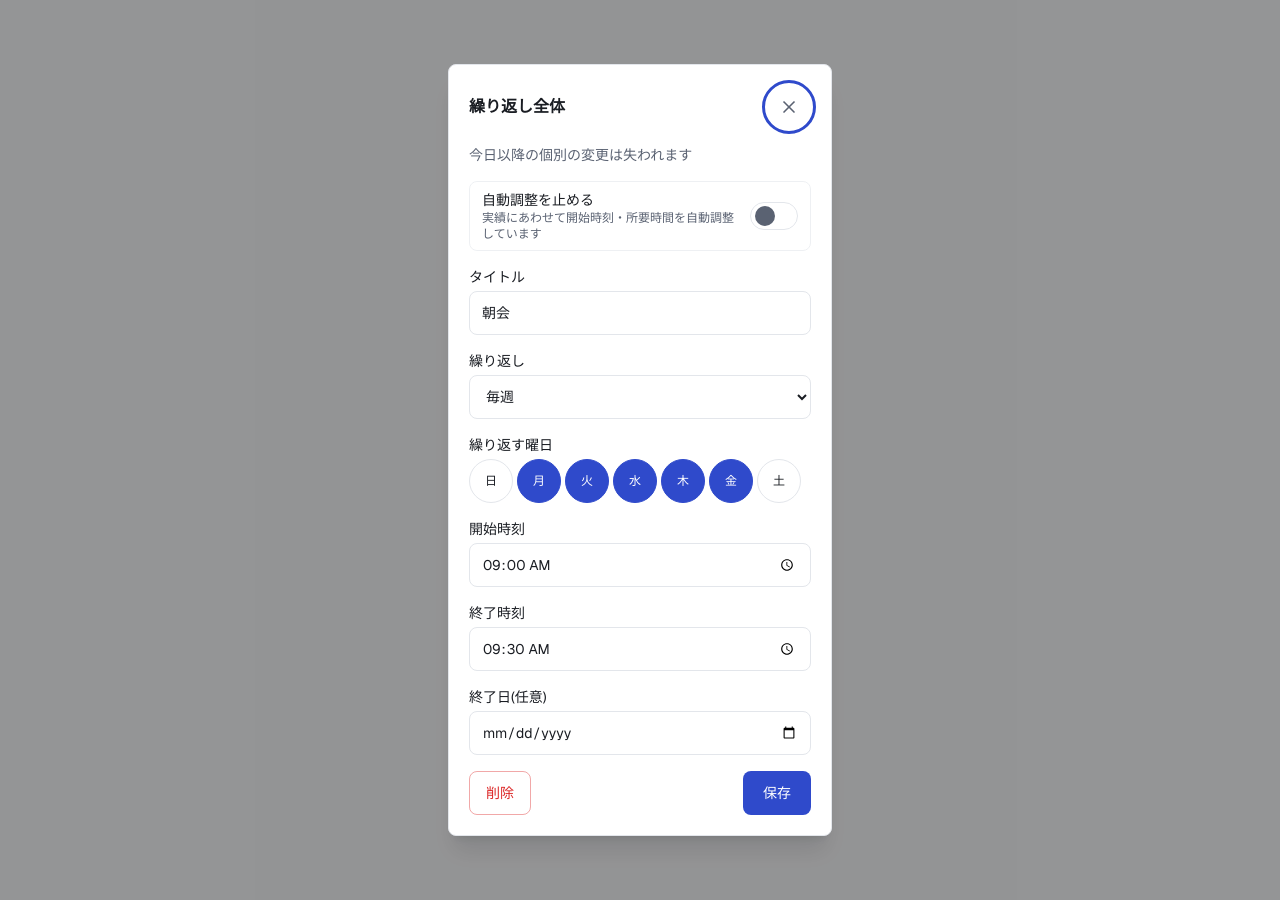
Test: 学習停止トグル(T22) › T22: Actionが失敗を返す Then エラーが表示されトグルは残る
What coordinates should you click on to do the following:
click the switch named "自動調整を止める"
I would click on:
 (774, 216)
Its box is [750,202,798,230].
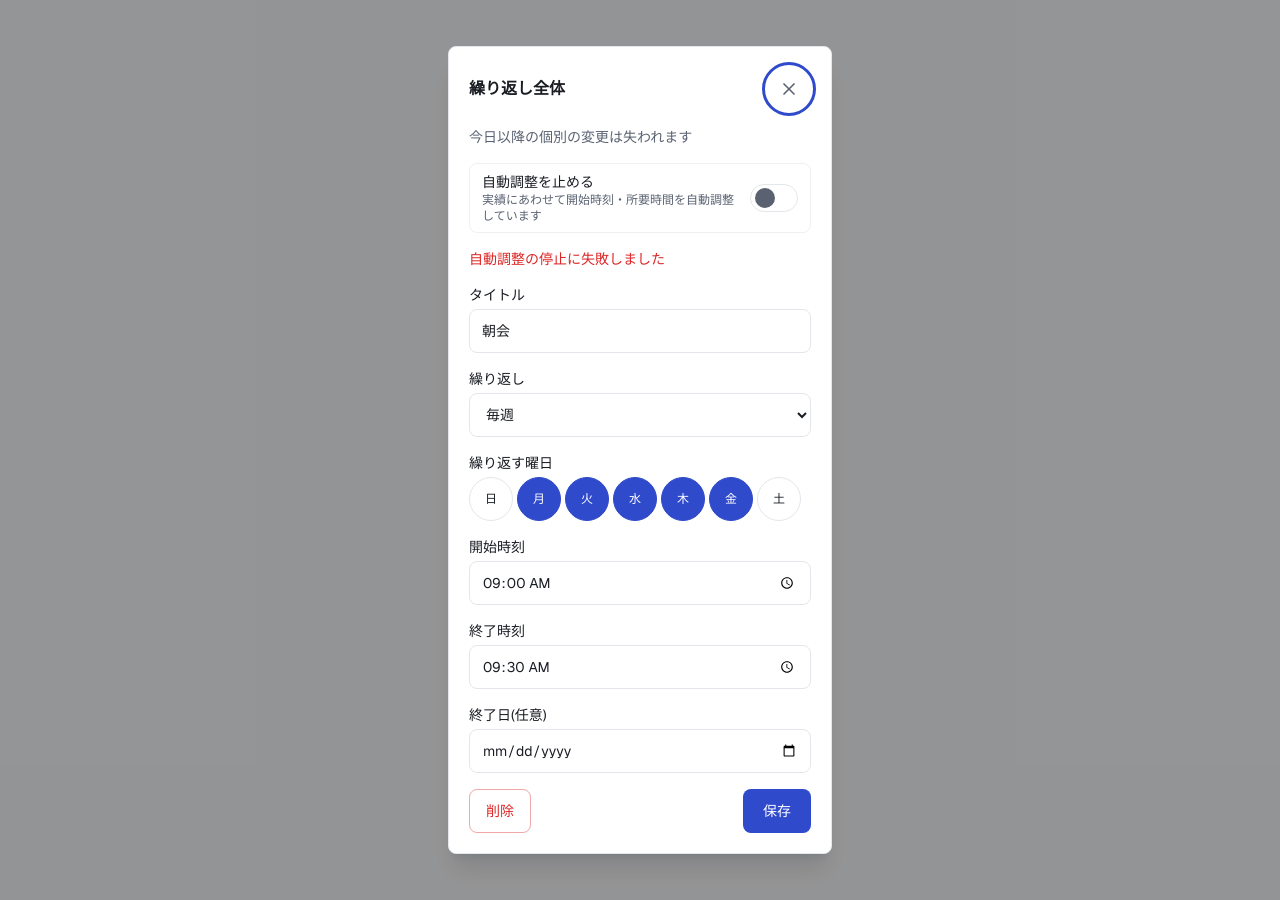
Expected: the switch named "自動調整を止める" is shown, [750,184,798,212]
Now the message reads "自動調整の停止に失敗しました", box [469,250,665,268]
